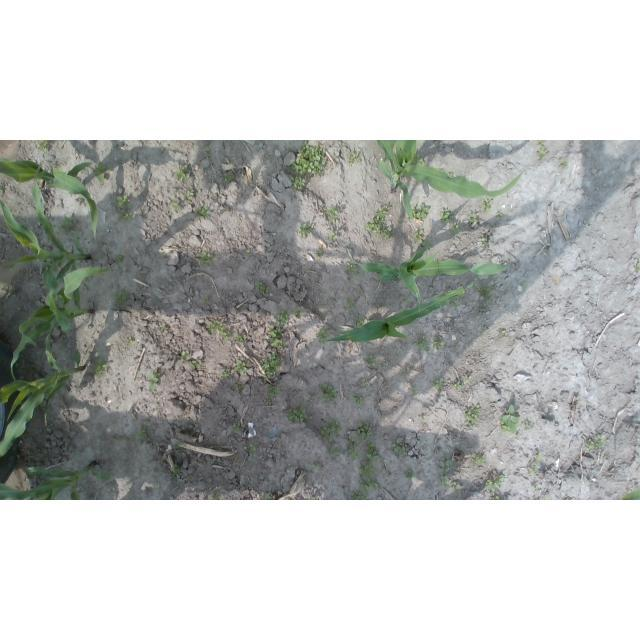Maize: (0, 163, 90, 335), (377, 140, 523, 221), (8, 266, 107, 383), (344, 243, 511, 312), (322, 280, 474, 345), (0, 346, 84, 461), (1, 155, 102, 239), (1, 461, 108, 500), (619, 488, 640, 500)
Weeds: (287, 140, 327, 178), (365, 204, 391, 240), (260, 352, 282, 381), (500, 406, 521, 435), (206, 320, 232, 341), (266, 326, 286, 351), (321, 419, 342, 441), (117, 193, 132, 223), (57, 214, 78, 235), (474, 283, 497, 302), (318, 383, 339, 403), (463, 405, 481, 427), (94, 161, 111, 183), (287, 407, 309, 424), (347, 435, 362, 459), (360, 477, 381, 494), (410, 203, 429, 221), (485, 474, 505, 490), (147, 369, 161, 391), (298, 221, 314, 240), (357, 422, 373, 441), (93, 359, 108, 378), (586, 435, 606, 449), (413, 334, 430, 350), (274, 309, 290, 326), (326, 205, 340, 224), (290, 176, 306, 192), (344, 262, 360, 278), (175, 164, 190, 181), (366, 444, 381, 461), (358, 462, 375, 477), (234, 358, 248, 376), (199, 252, 213, 269), (255, 282, 270, 297), (114, 291, 130, 305), (196, 205, 212, 219), (391, 439, 405, 455), (180, 188, 194, 203), (536, 140, 548, 157), (414, 228, 425, 246), (439, 208, 453, 222), (363, 354, 377, 368), (328, 446, 345, 457), (432, 337, 445, 351), (411, 151, 424, 165), (347, 152, 361, 165), (168, 196, 180, 211), (316, 329, 328, 343), (136, 426, 148, 440), (437, 475, 451, 487), (483, 197, 494, 212), (432, 378, 445, 390), (268, 384, 281, 396), (37, 140, 50, 152), (474, 454, 487, 466), (176, 351, 190, 362), (352, 394, 364, 406), (345, 296, 355, 310), (442, 456, 452, 470), (451, 222, 462, 234), (350, 492, 366, 500), (355, 314, 364, 328), (235, 333, 246, 344), (225, 173, 236, 184), (170, 464, 180, 476), (481, 234, 490, 247), (468, 213, 478, 224), (113, 255, 125, 264), (315, 246, 323, 259), (191, 360, 201, 370), (453, 380, 463, 390), (451, 482, 461, 492), (294, 309, 303, 320), (160, 323, 169, 334), (328, 231, 337, 241), (232, 423, 241, 433), (528, 466, 538, 475), (560, 157, 568, 168), (451, 298, 460, 307), (406, 471, 415, 480), (260, 493, 271, 500), (410, 388, 418, 397), (213, 491, 221, 500), (235, 382, 245, 389), (249, 443, 256, 453), (525, 420, 532, 430), (489, 493, 499, 500), (400, 369, 408, 377), (496, 210, 504, 218), (221, 370, 229, 378), (362, 379, 370, 387), (634, 261, 640, 271), (312, 462, 320, 469), (536, 454, 543, 462), (465, 374, 472, 382), (1, 182, 4, 199), (126, 337, 133, 344), (202, 295, 208, 303), (479, 325, 485, 333), (447, 171, 454, 177), (173, 443, 180, 449), (498, 330, 506, 335), (420, 415, 426, 421), (533, 483, 539, 489), (204, 146, 210, 152), (402, 297, 409, 302), (246, 250, 251, 257), (265, 400, 271, 405), (543, 496, 550, 500), (309, 496, 316, 500), (276, 435, 281, 440), (523, 282, 527, 288)
